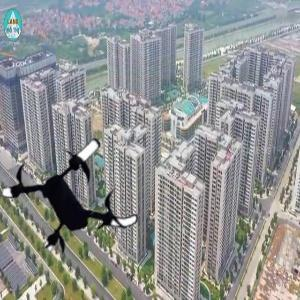drone: (5, 124, 147, 266)
